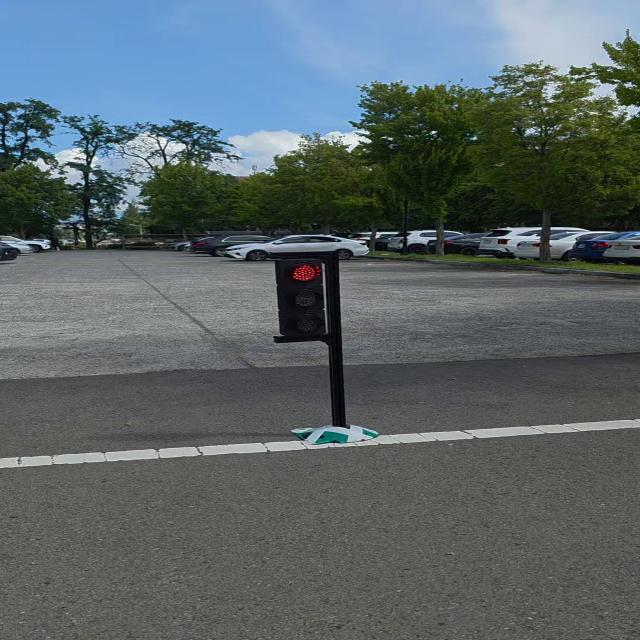red: (266, 252, 348, 344)
